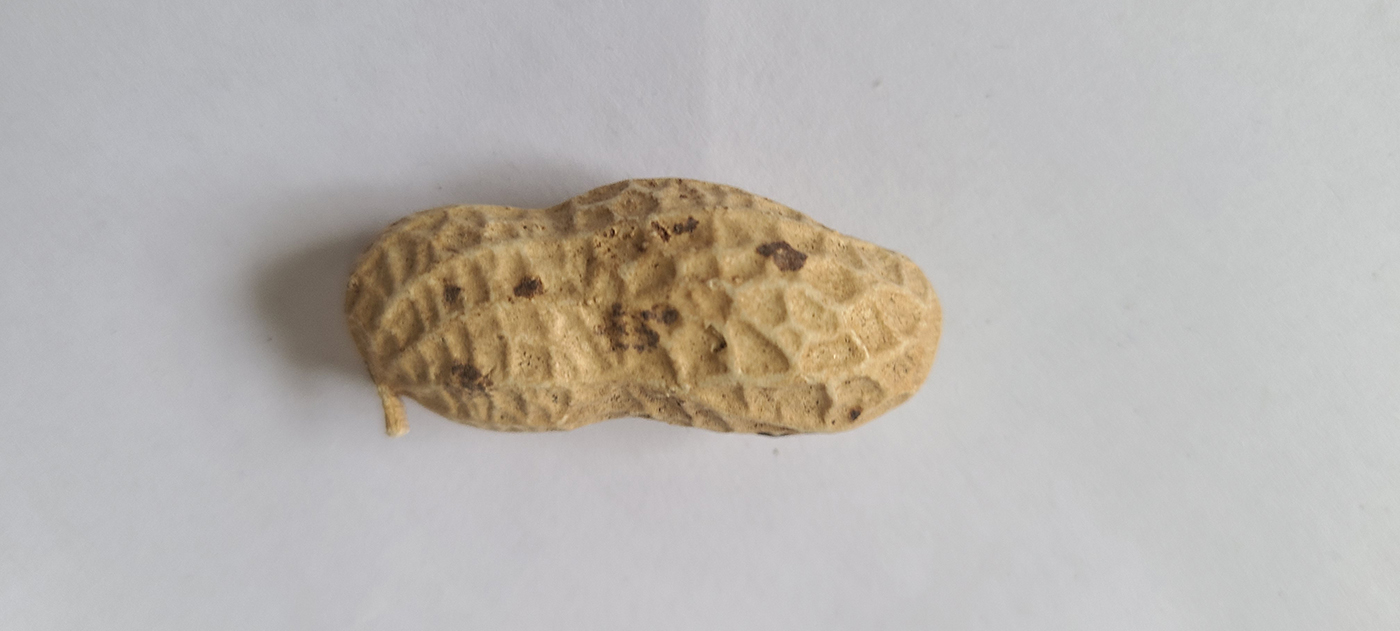h: (343, 176, 944, 441)
